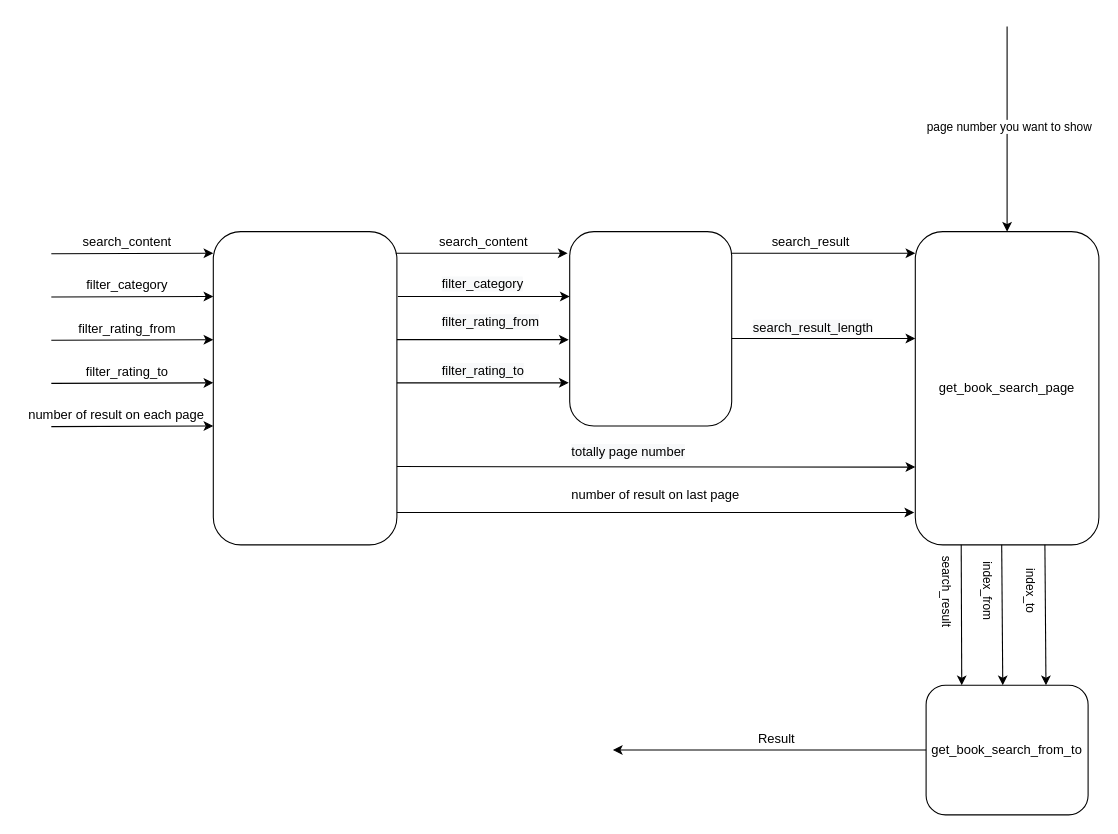
The diagram is 1118 pixels wide and 834 high, and some of its shapes have lost their labels. The shapes that lost their labels are listed below. From the top down, each one's centre as x and y in pixels, then its label:
At point 650,328: "Book_search_length".
At point 304,388: "get_book_search_page_num".
